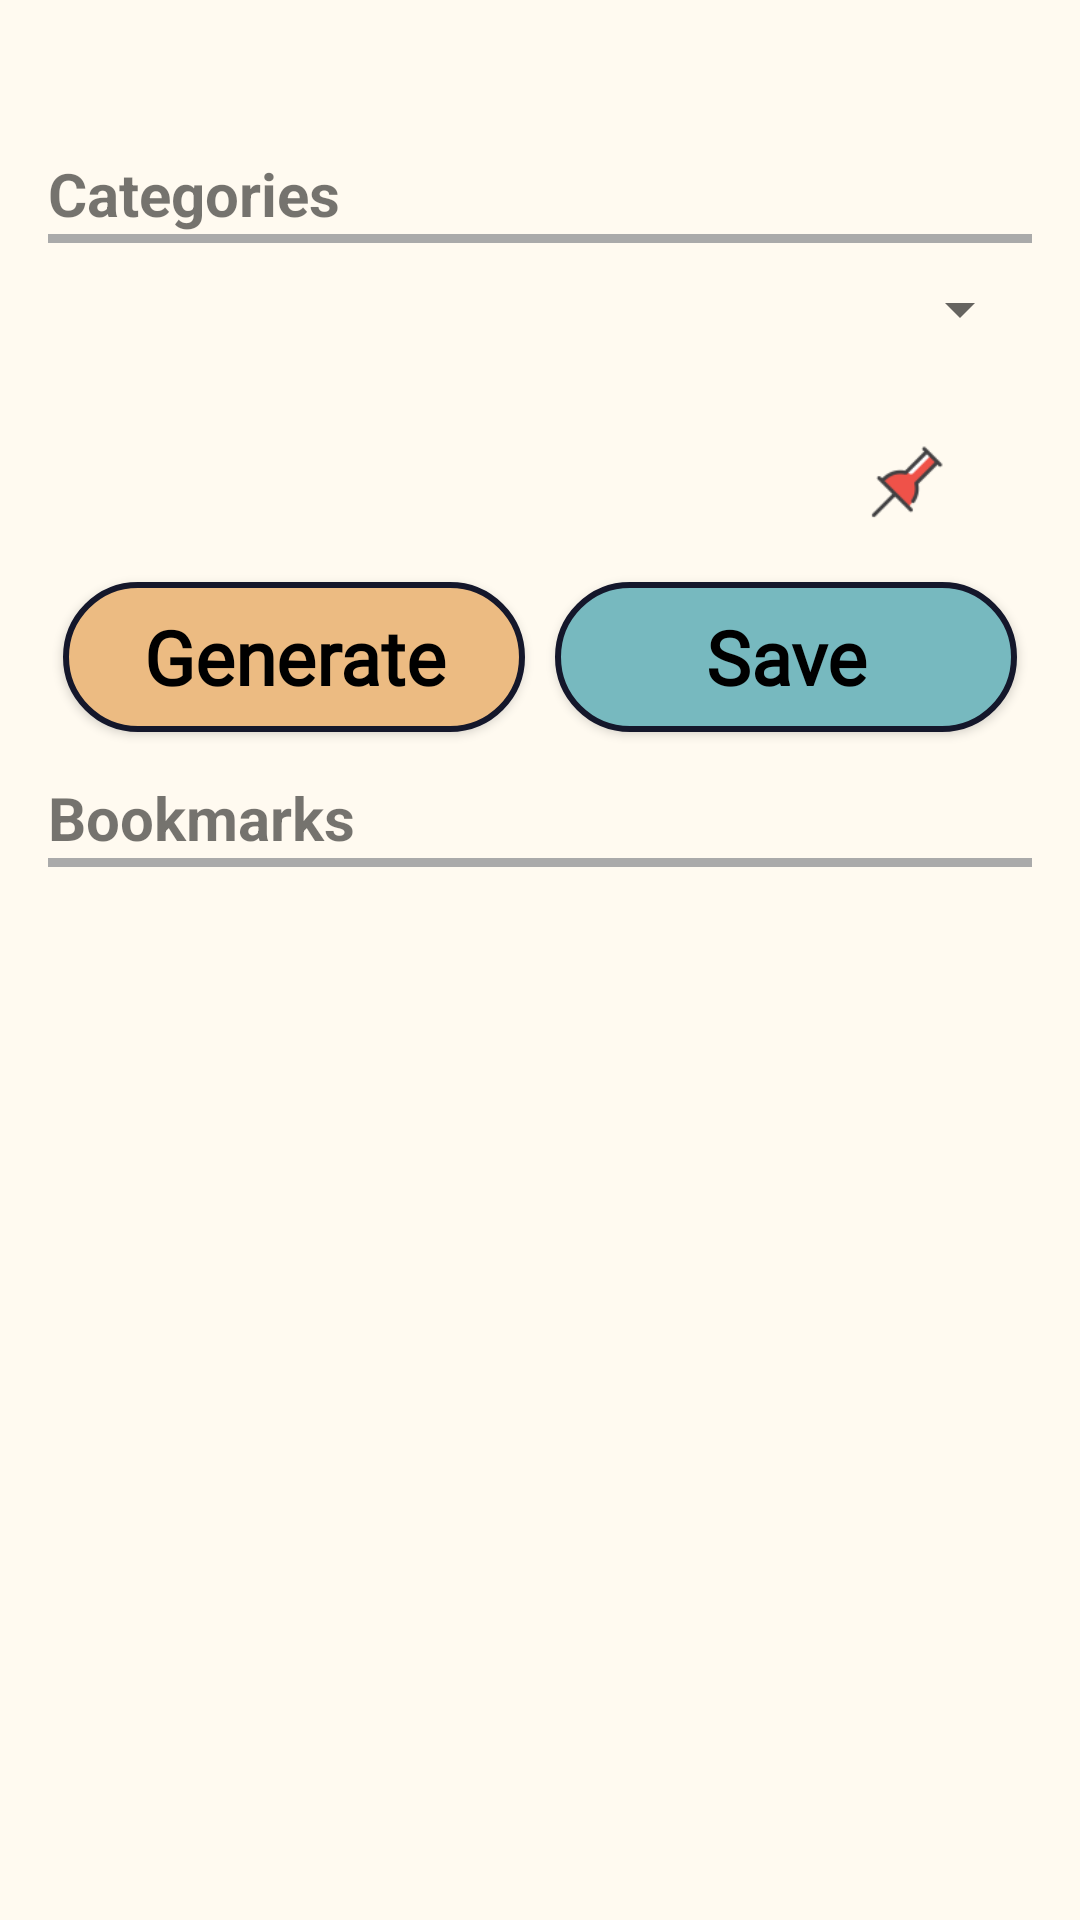

Icons on this 1080w x 1920h Android screen, each with its box as BBox(x1, y1, x2, y2):
pin: BBox(872, 446, 943, 517)
